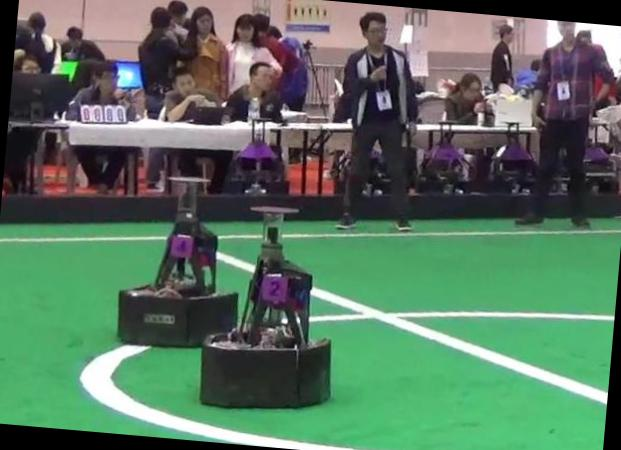person: (517, 21, 614, 227), (338, 11, 418, 229)
robot: (200, 206, 331, 408), (117, 178, 238, 347)
